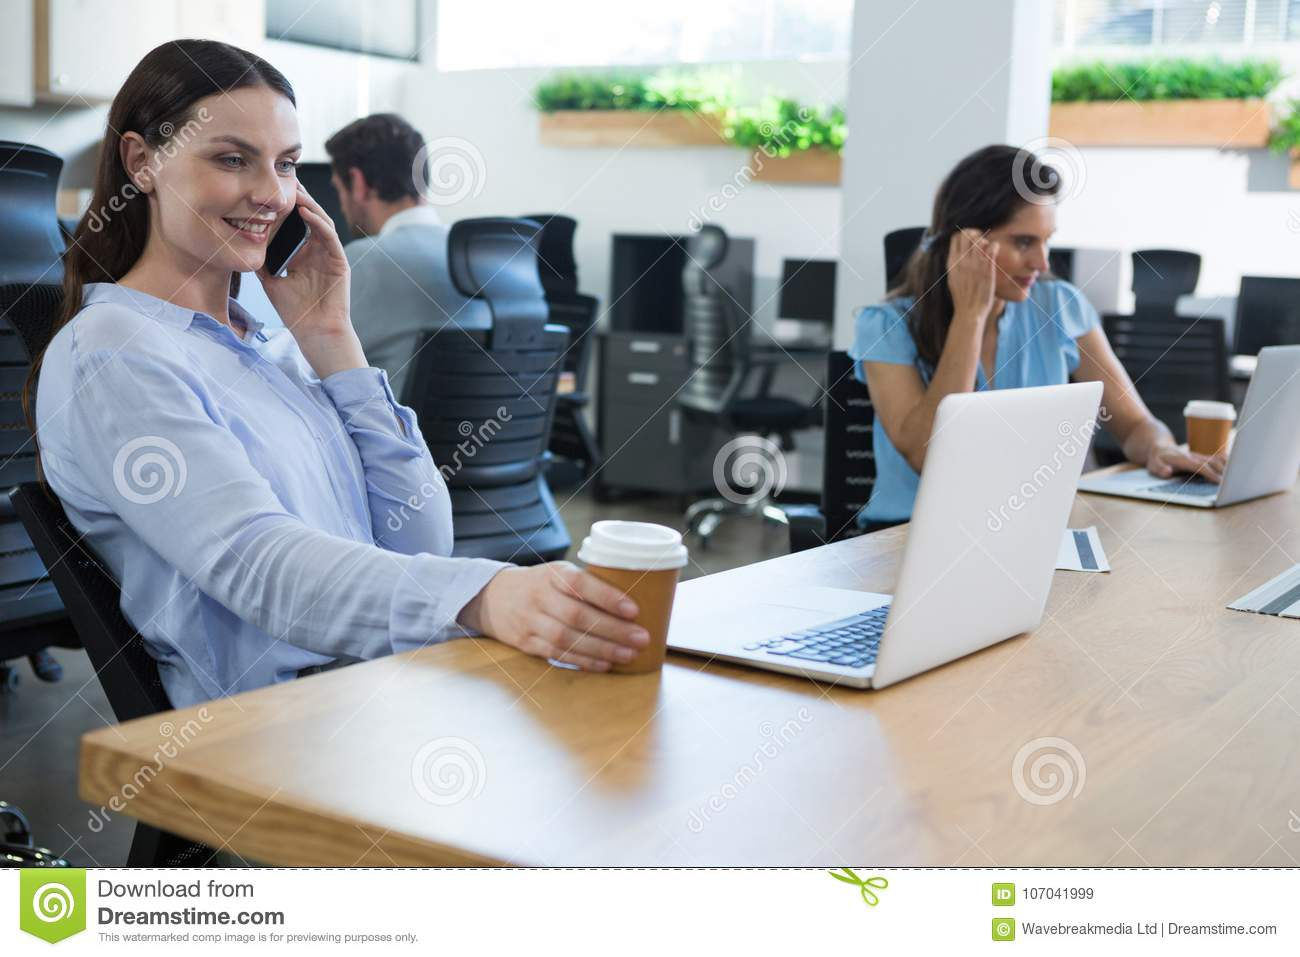phone: (262, 206, 321, 280)
talk: (192, 126, 361, 347)
